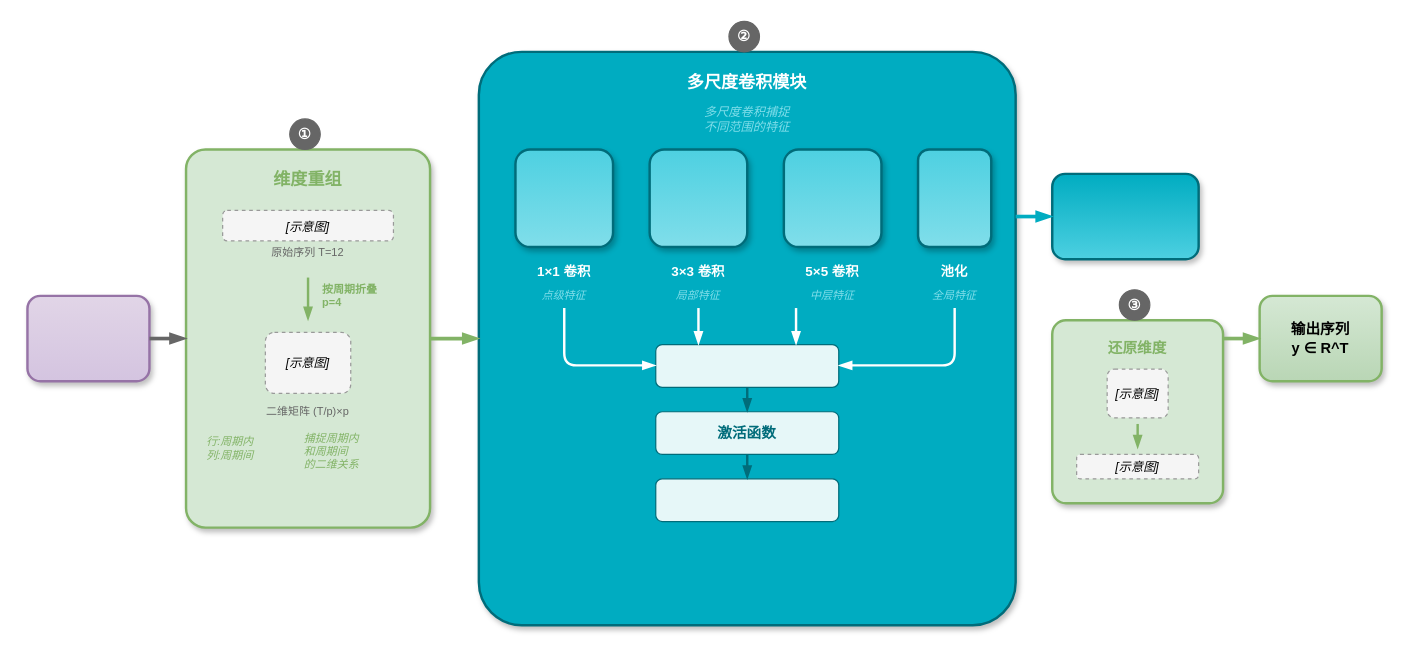
Some shapes in this 1410 by 656 pixel diagram are drawn without their labels. Each missing label, with the centre of its shape:
"一维序列 x ∈ R^T" goes at (x=89, y=339).
"二维特征图 Y ∈ R^{(T/p)×p}" goes at (x=1126, y=217).
"拼接" goes at (x=747, y=365).
"输出卷积" goes at (x=747, y=500).
